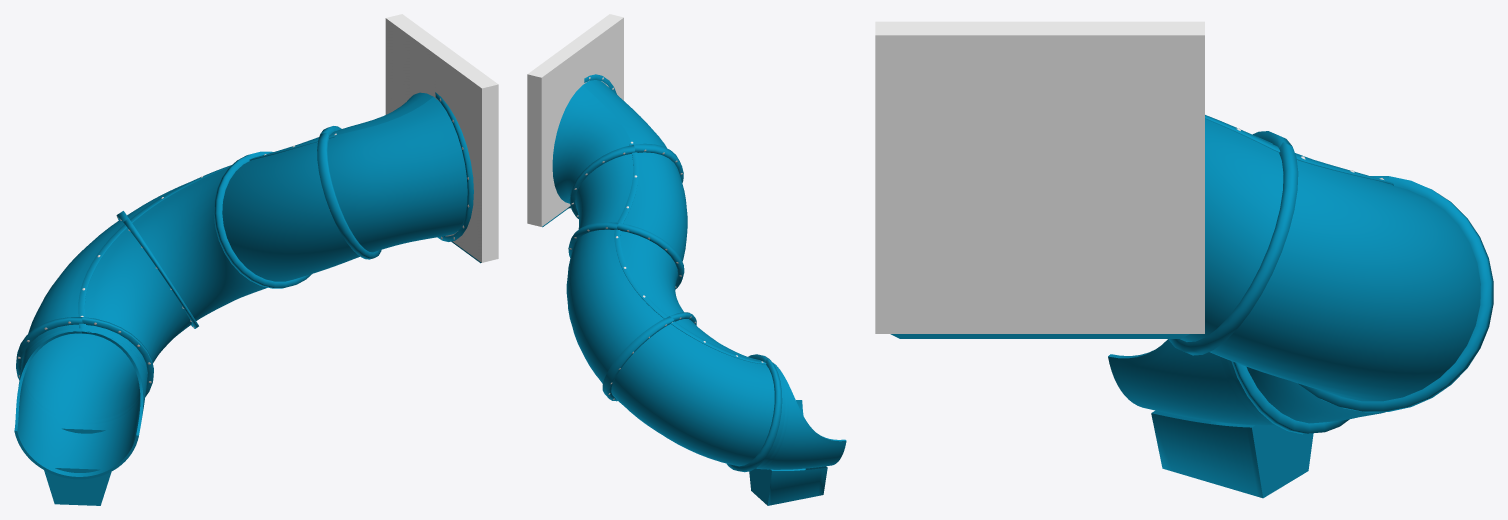
File: TTWS-5.8b132a7a.glb
3 views of the same model, side by side, from view 1: azimuth 30°, elevation 25°; view 2: azimuth 150°, elevation 25°; view 3: azimuth 270°, elevation 25° (orthographic). The views are drawn at different scales.
Visible parts, largest first — view 1: Turbo_Twister_Slider001,_colorize_, joint_c,1,6; view 2: Turbo_Twister_Slider001,_colorize_, joint_c,1,6; view 3: joint_c,1,6, Turbo_Twister_Slider001,_colorize_.
Part boxes in pixels (x1,y1,x2,y2): Turbo_Twister_Slider001,_colorize_: (14, 92, 481, 505); joint_c,1,6: (385, 14, 498, 262); Turbo_Twister_Slider001,_colorize_: (542, 74, 846, 505); joint_c,1,6: (527, 14, 623, 226); joint_c,1,6: (875, 21, 1204, 333); Turbo_Twister_Slider001,_colorize_: (890, 115, 1493, 498).
Size of the model in its own units: 2.28 by 2.33 by 1.88.
